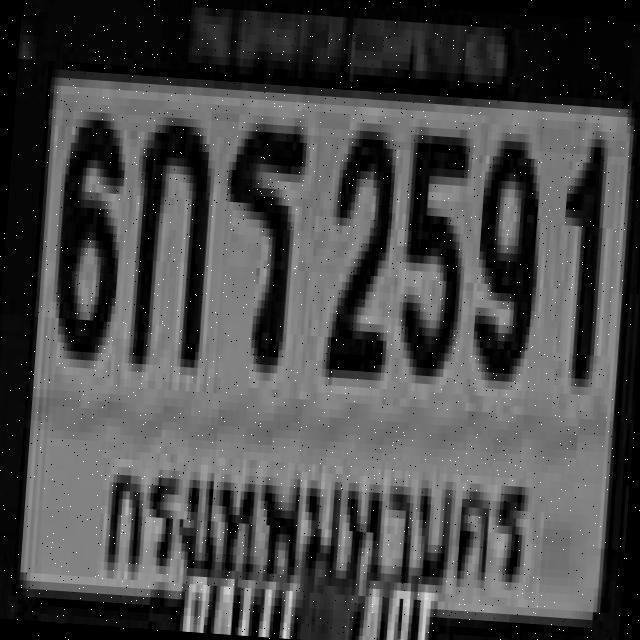1: (550, 125, 606, 375)
10GorGai: (125, 103, 212, 363)
2: (322, 117, 395, 368)
44RorRuea: (212, 113, 304, 366)
5: (395, 122, 467, 365)
6: (50, 102, 126, 354)
9: (468, 127, 544, 371)
Bangkok: (90, 428, 540, 608)
